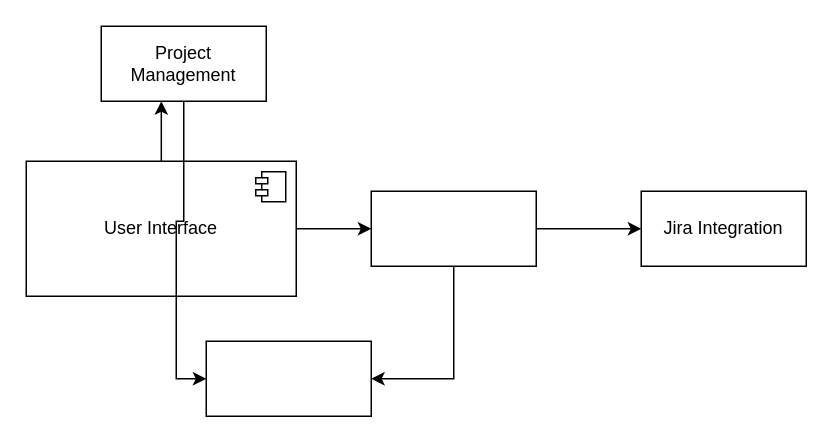
The diagram is 833 pixels wide and 443 high, and some of its shapes have lost their labels. Each missing label, with the box of its shape:
Database: (205, 340, 371, 416)
Task Management: (370, 190, 536, 266)
